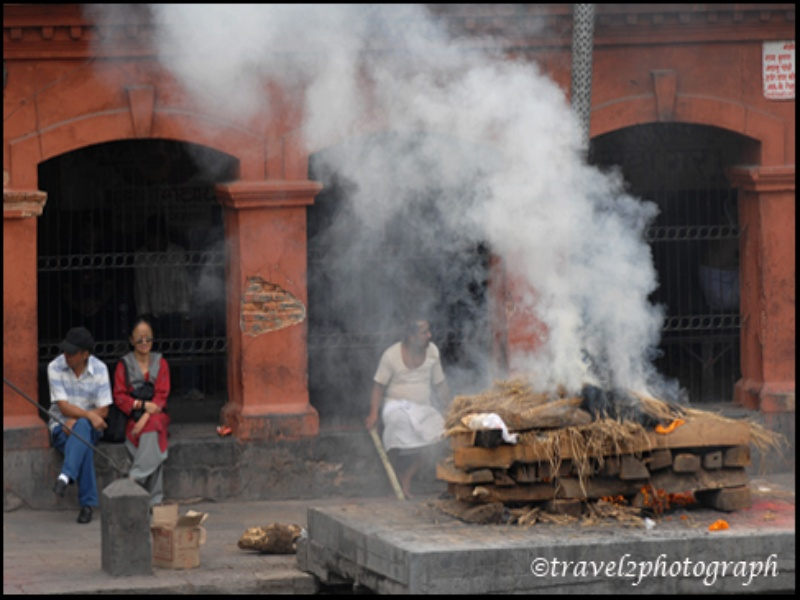smoke: (162, 9, 637, 393)
